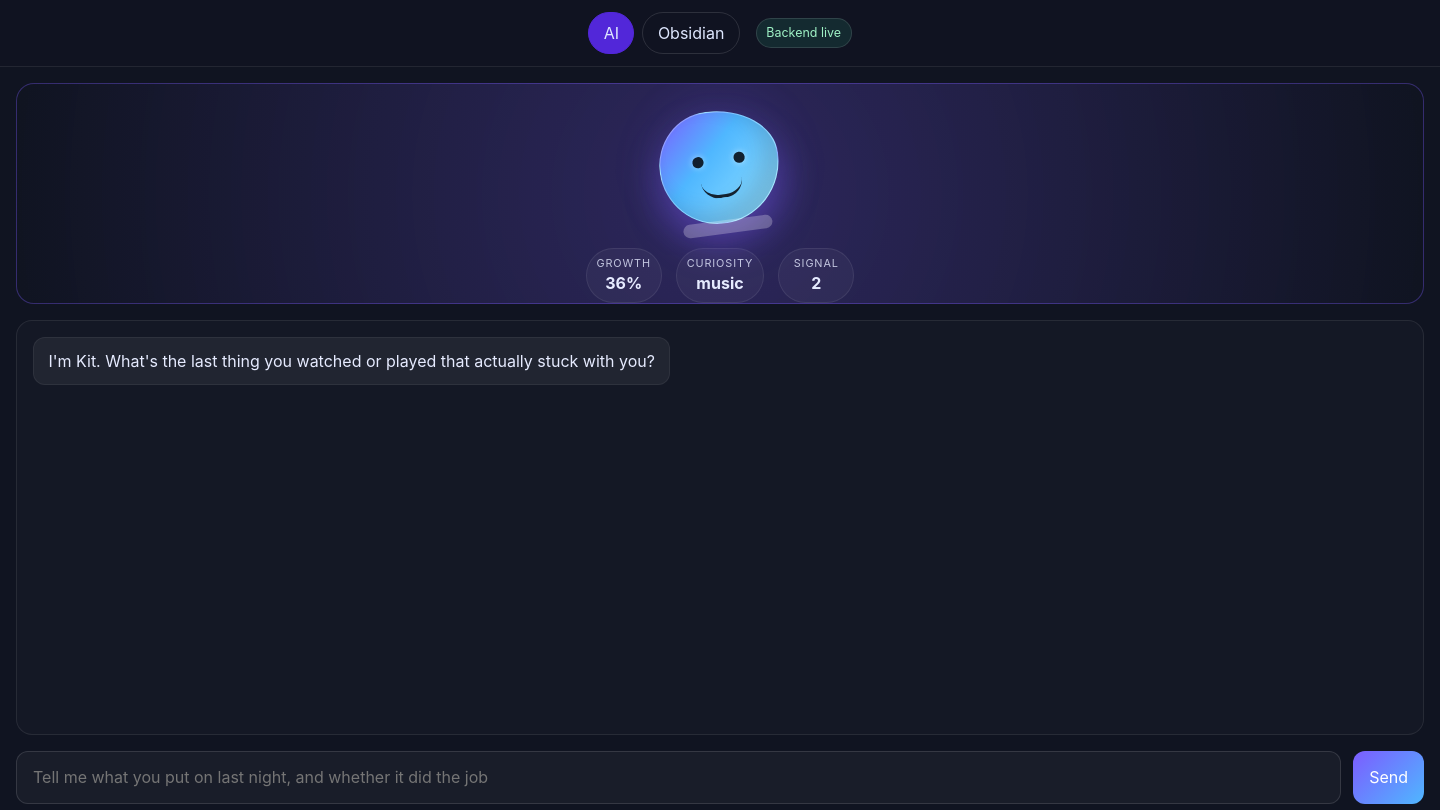
Test case: Kit UI › pins later messages to the session it was given
Later steps or results of the test are not shown.
In the field named "message input": (679, 777) [16,751,1341,804], type "first"
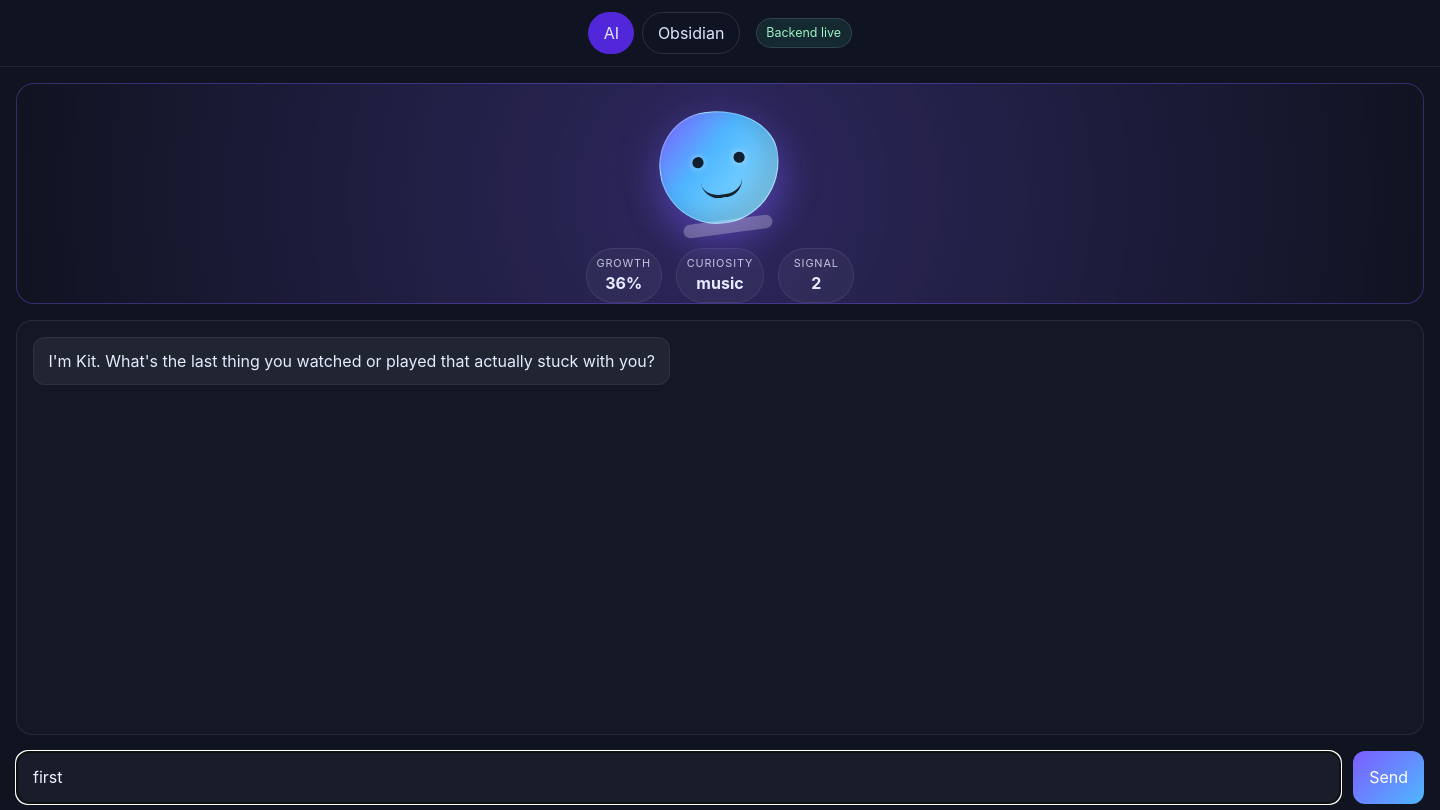
Press Enter
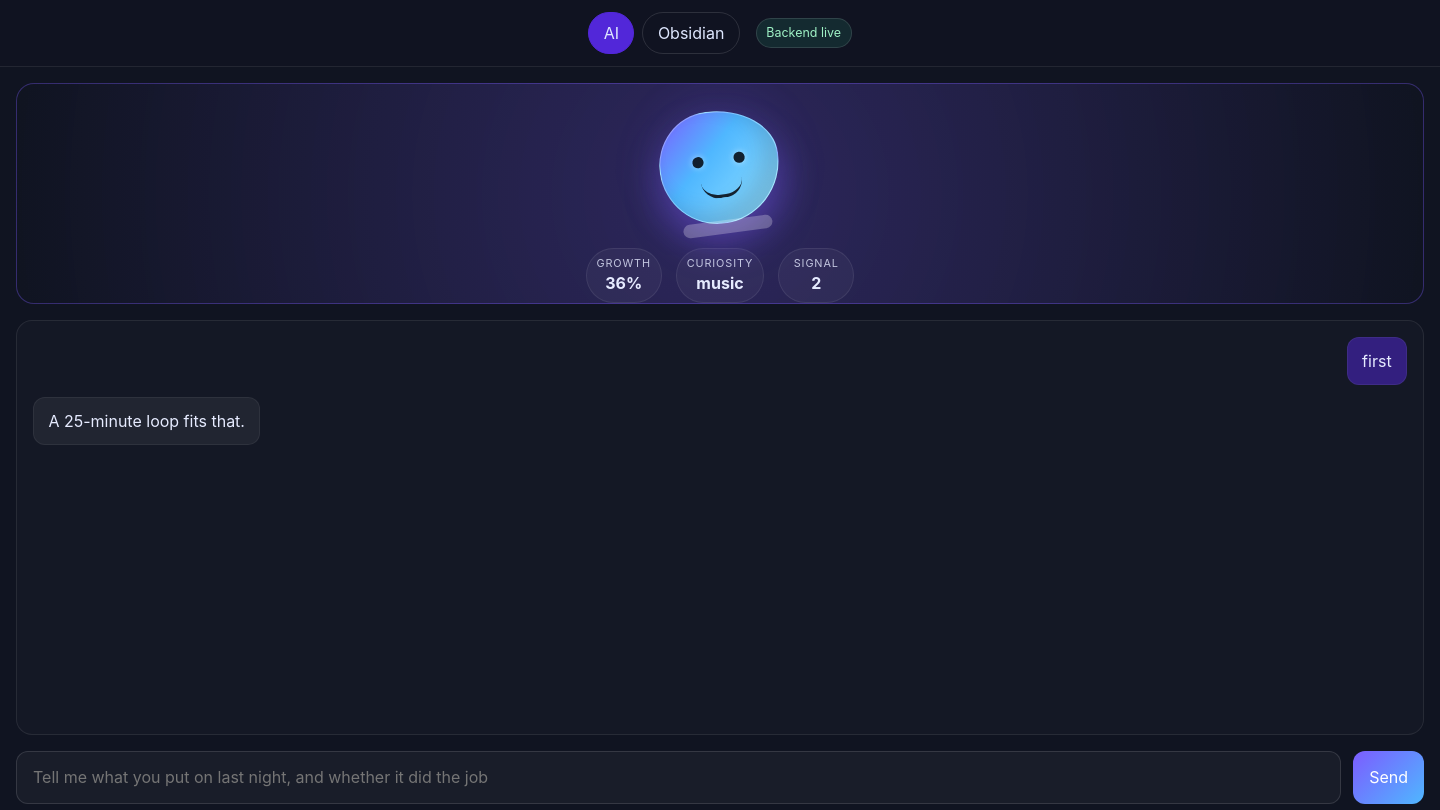
Expected: the text "A 25-minute loop fits that." is shown, [33,397,260,446]
